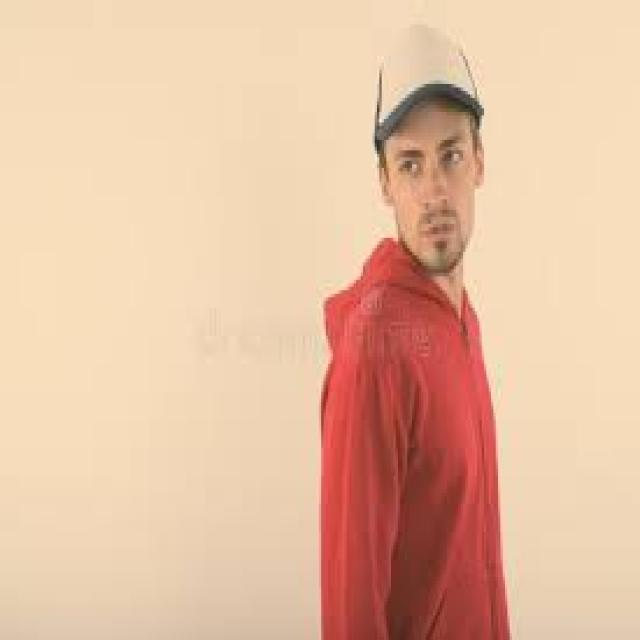cap: (372, 24, 496, 273)
